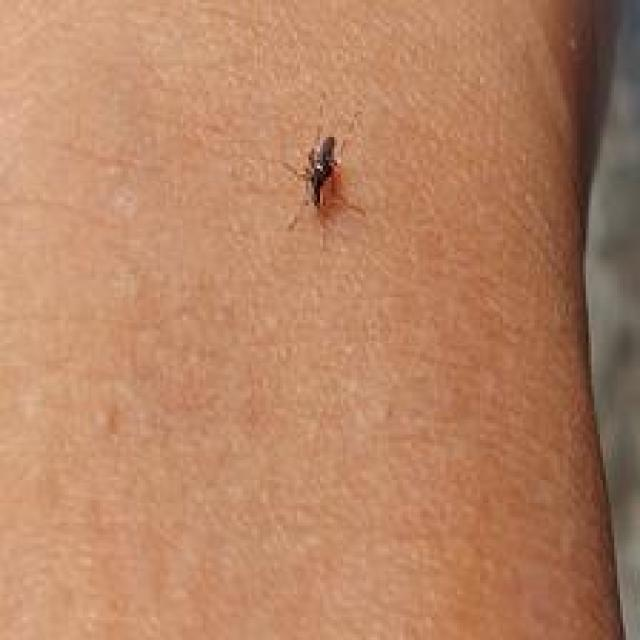Aedes albopictus: (283, 123, 368, 240)
